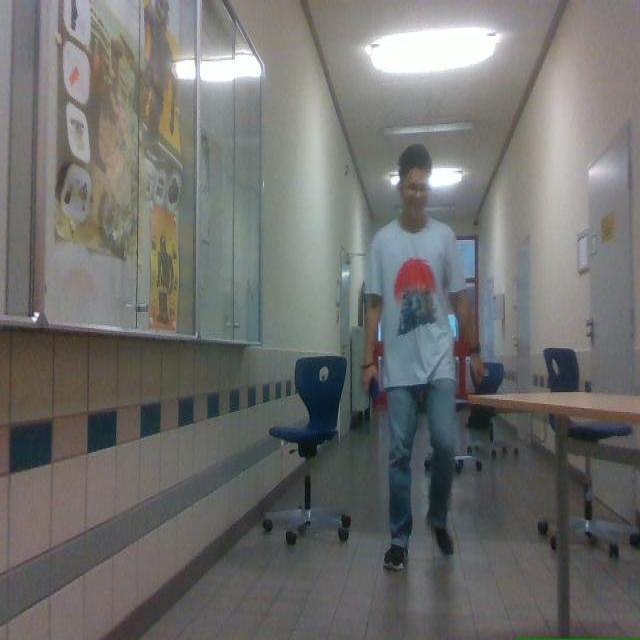humans: (361, 144, 483, 569)
objects: (263, 356, 350, 545), (569, 455, 639, 557), (467, 406, 507, 457)
